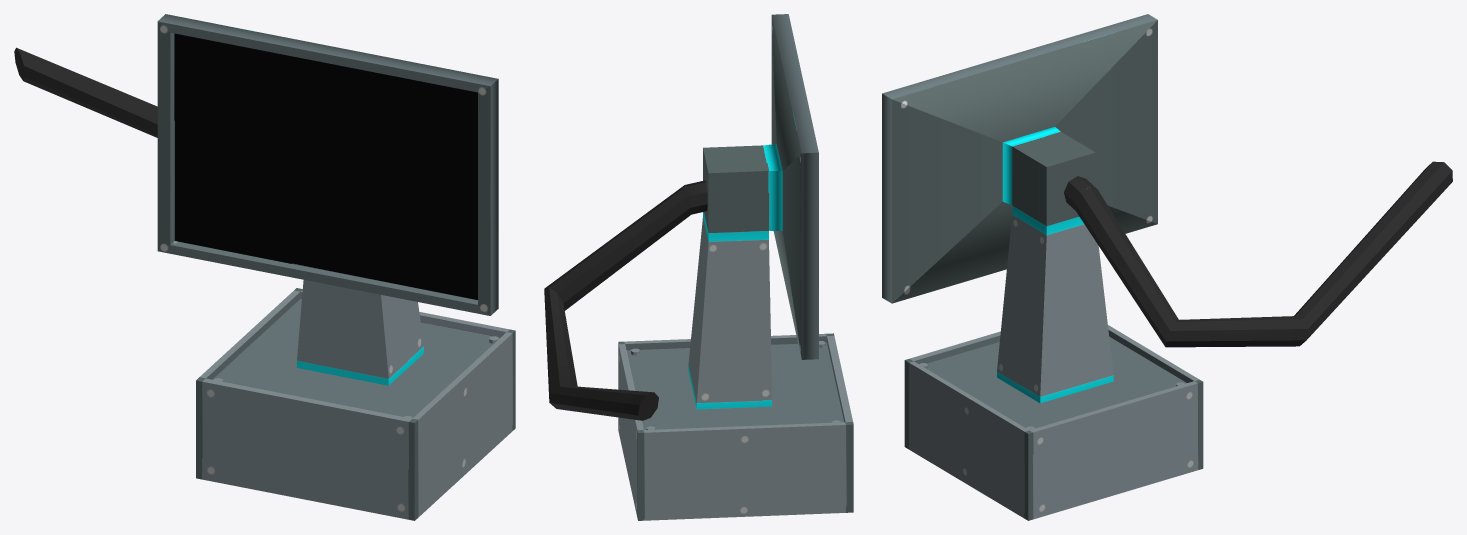
Rendered from CryoMonitor.glb.
3 views of the same model, side by side, from view 1: azimuth 30°, elevation 25°; view 2: azimuth 150°, elevation 25°; view 3: azimuth 270°, elevation 25° (orthographic). The views are drawn at different scales.
Visible parts, largest first — view 1: CryoMonitor; view 2: CryoMonitor; view 3: CryoMonitor.
Part boxes in pixels (<box>): CryoMonitor: <box>14,14,515,520</box>; CryoMonitor: <box>544,14,853,520</box>; CryoMonitor: <box>882,14,1452,520</box>.
Size of the model in its own units: 1.71 by 2.38 by 3.23.
1 material, 1 textured.
